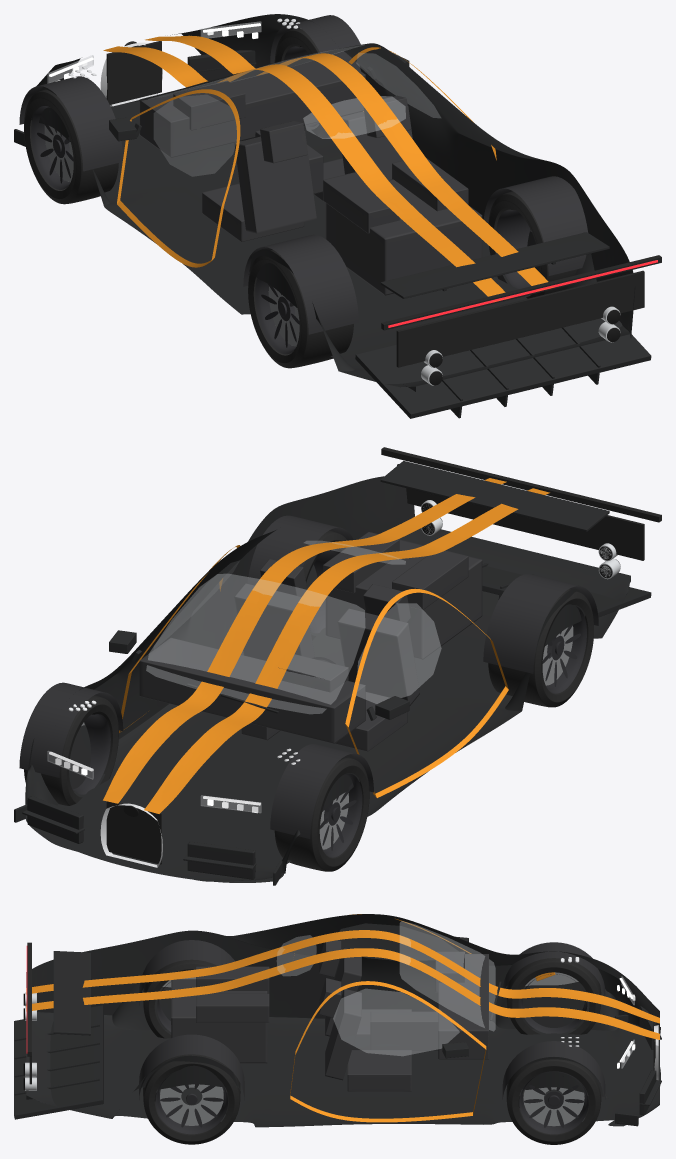
The model's file is vehicle.opt.glb.
The picture shows the model from 3 angles, top to bottom: view 1: azimuth 30°, elevation 25°; view 2: azimuth 150°, elevation 25°; view 3: azimuth 270°, elevation 25°; orthographic projection. The views are drawn at different scales.
Parts seen in each view (by area): view 1: BODY_Chiron_Shell, INTERIOR_And_W16_Engine, AERO_Rear_Diffuser_And_Wing, BODY_Wheel_Well_Liners, AERO_Rear_Fascia_Mesh, GLASS_Greenhouse, WHEEL_RL_Tire, WHEEL_FL_Tire, AERO_Horseshoe_Mesh, AERO_Chiron_C_Line_Ribbon, WHEEL_FL_Rim, WHEEL_RL_Rim (+12 smaller); view 2: BODY_Chiron_Shell, INTERIOR_And_W16_Engine, GLASS_Greenhouse, BODY_Wheel_Well_Liners, AERO_Rear_Diffuser_And_Wing, AERO_Rear_Fascia_Mesh, AERO_Front_Intakes, WHEEL_FL_Tire, WHEEL_RL_Tire, AERO_Horseshoe_Mesh, AERO_Chiron_C_Line_Ribbon, WHEEL_FR_Tire (+12 smaller); view 3: BODY_Chiron_Shell, INTERIOR_And_W16_Engine, GLASS_Greenhouse, AERO_Rear_Diffuser_And_Wing, BODY_Wheel_Well_Liners, WHEEL_FR_Tire, WHEEL_RR_Tire, WHEEL_FL_Tire, AERO_Chiron_C_Line_Ribbon, WHEEL_FR_Rim, WHEEL_RR_Rim, WHEEL_RR_Rotor (+9 smaller).
Part boxes in pixels (left/top/right/bottom): BODY_Chiron_Shell: left=31, top=14, right=635, bottom=391; INTERIOR_And_W16_Engine: left=139, top=53, right=482, bottom=295; AERO_Rear_Diffuser_And_Wing: left=355, top=232, right=651, bottom=418; BODY_Wheel_Well_Liners: left=19, top=15, right=588, bottom=334; AERO_Rear_Fascia_Mesh: left=381, top=255, right=661, bottom=367; GLASS_Greenhouse: left=150, top=45, right=440, bottom=176; WHEEL_RL_Tire: left=248, top=250, right=353, bottom=368; WHEEL_FL_Tire: left=24, top=89, right=118, bottom=204; AERO_Horseshoe_Mesh: left=106, top=41, right=161, bottom=104; AERO_Chiron_C_Line_Ribbon: left=117, top=47, right=496, bottom=267; WHEEL_FL_Rim: left=31, top=106, right=73, bottom=189; WHEEL_RL_Rim: left=255, top=278, right=299, bottom=354; BODY_Chiron_Shell: left=25, top=476, right=630, bottom=881; INTERIOR_And_W16_Engine: left=139, top=532, right=482, bottom=751; GLASS_Greenhouse: left=146, top=541, right=441, bottom=713; BODY_Wheel_Well_Liners: left=19, top=515, right=598, bottom=838; AERO_Rear_Diffuser_And_Wing: left=380, top=461, right=651, bottom=617; AERO_Rear_Fascia_Mesh: left=381, top=447, right=661, bottom=560; AERO_Front_Intakes: left=22, top=796, right=256, bottom=879; WHEEL_FL_Tire: left=274, top=757, right=369, bottom=871; WHEEL_RL_Tire: left=488, top=589, right=593, bottom=707; AERO_Horseshoe_Mesh: left=106, top=801, right=161, bottom=864; AERO_Chiron_C_Line_Ribbon: left=119, top=545, right=508, bottom=797; WHEEL_FR_Tire: left=24, top=695, right=118, bottom=805; BODY_Chiron_Shell: left=26, top=914, right=659, bottom=1127; INTERIOR_And_W16_Engine: left=171, top=940, right=488, bottom=1091; GLASS_Greenhouse: left=277, top=921, right=495, bottom=1055; AERO_Rear_Diffuser_And_Wing: left=14, top=951, right=103, bottom=1119; BODY_Wheel_Well_Liners: left=139, top=940, right=605, bottom=1100; WHEEL_FR_Tire: left=506, top=1059, right=601, bottom=1144; WHEEL_RR_Tire: left=143, top=1054, right=240, bottom=1144; WHEEL_FL_Tire: left=506, top=958, right=601, bottom=1034; AERO_Chiron_C_Line_Ribbon: left=290, top=914, right=486, bottom=1122; WHEEL_FR_Rim: left=519, top=1071, right=588, bottom=1134; WHEEL_RR_Rim: left=155, top=1074, right=227, bottom=1134; WHEEL_RR_Rotor: left=160, top=1084, right=223, bottom=1125.
Size of what is drawn, in the model's own units: 2.08 by 1.21 by 4.85.
